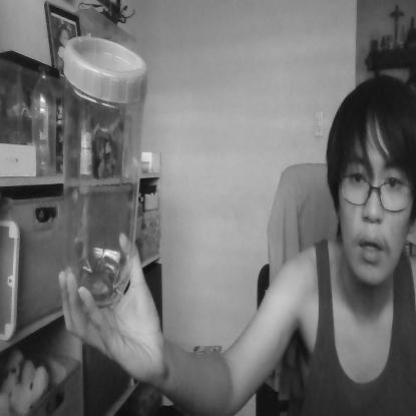Plastic Bottle: (60, 34, 148, 312)
